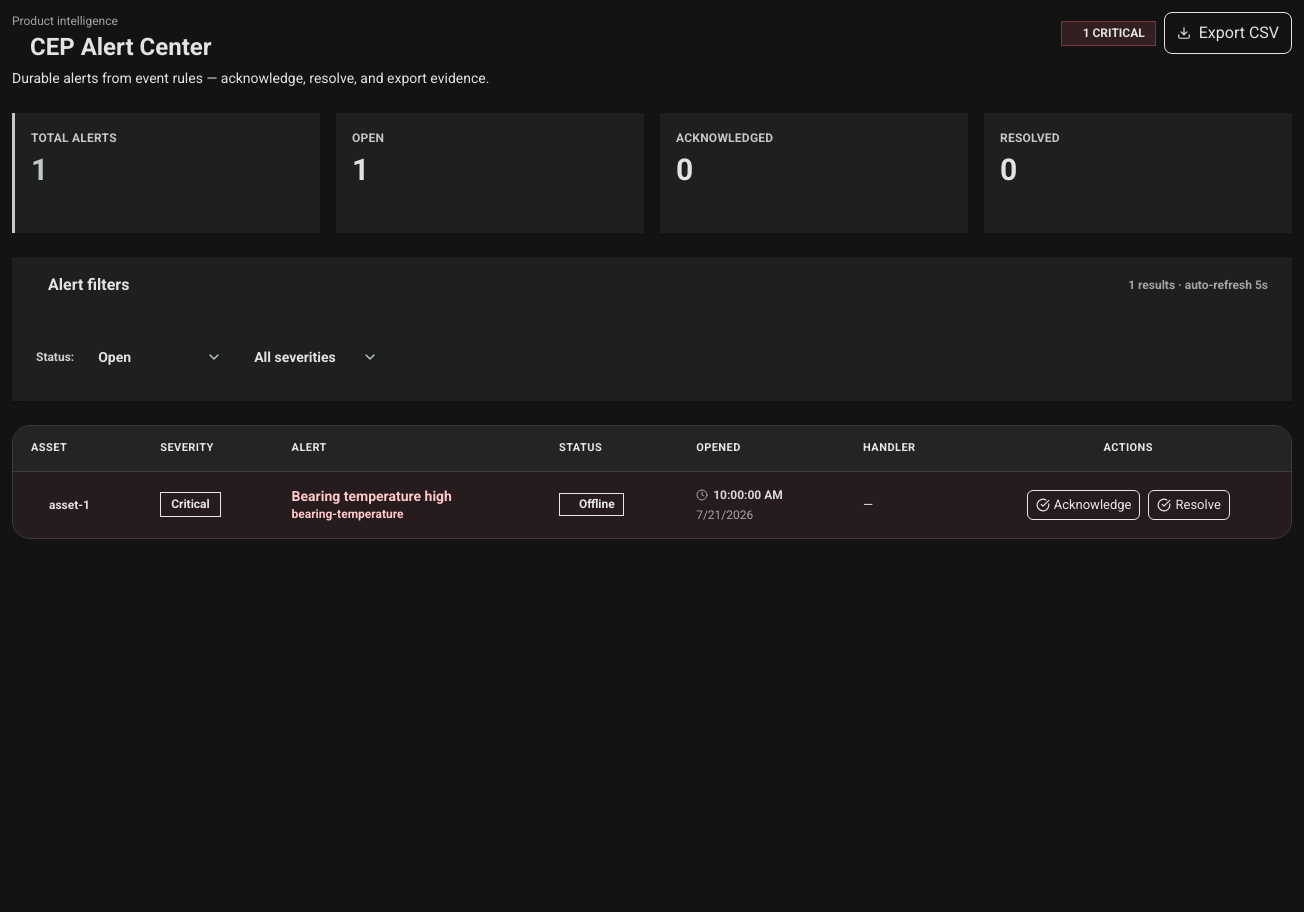
it: AlertCenterPage › shows an unavailable state when no RCA can be produced
What coordinates should you click on to do the following:
click the button "Bearing temperature high bearing-temperature"
I would click on:
 (372, 504)
Its box is [292, 486, 452, 522].
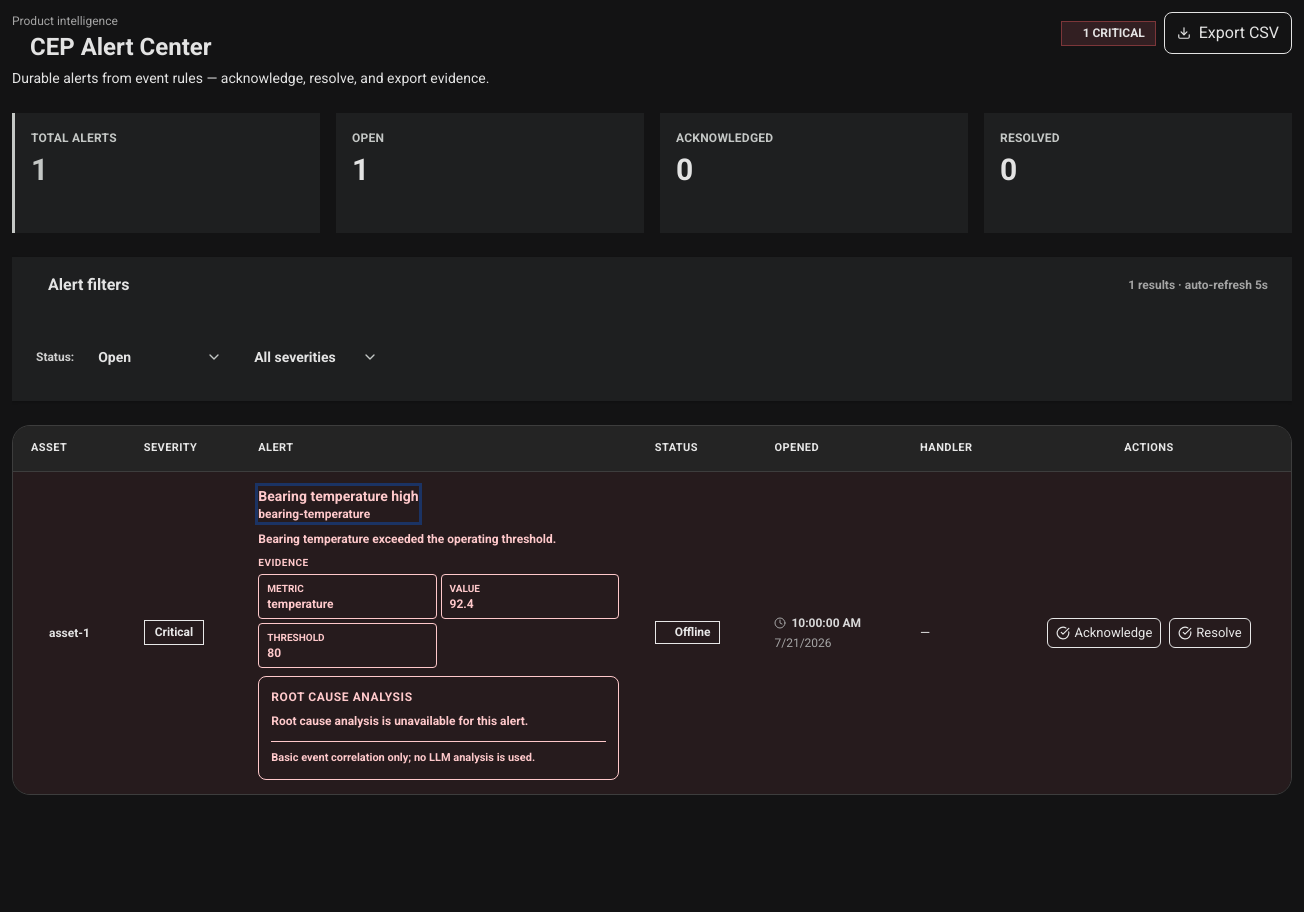
Check: the text "Root cause analysis is unavailable for this alert." is shown, box [271, 714, 528, 728]
